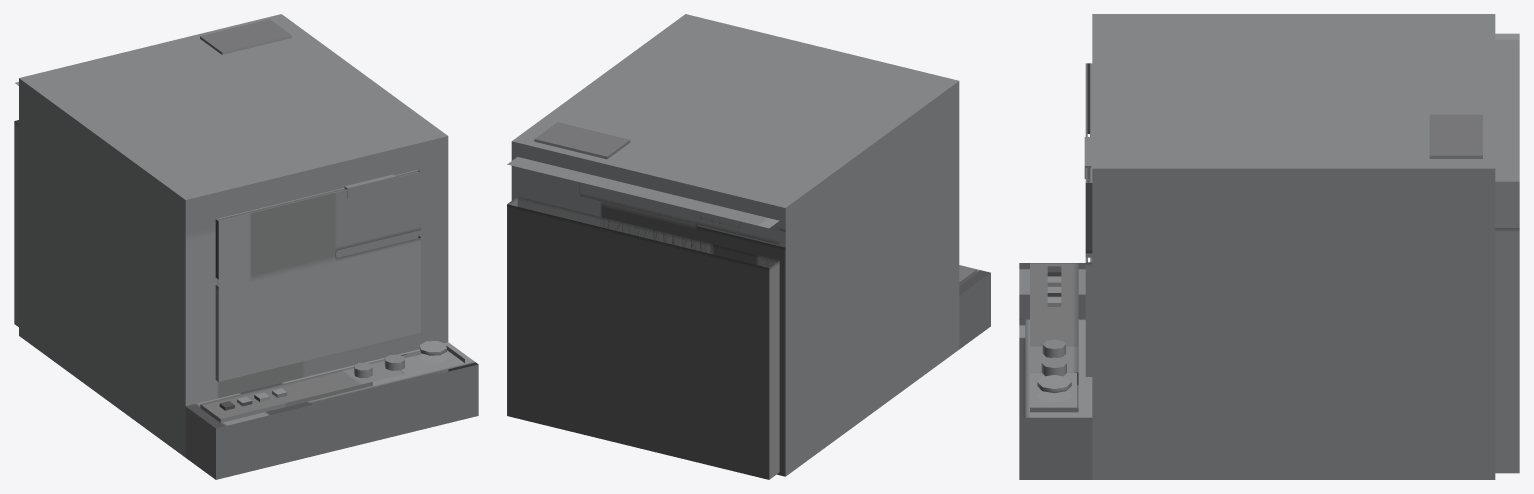
3 views of the same model, side by side, from view 1: azimuth 30°, elevation 25°; view 2: azimuth 150°, elevation 25°; view 3: azimuth 270°, elevation 25° (orthographic). The views are drawn at different scales.
Bounding box in the file's own units: 0.752 × 0.74 × 1.03.
